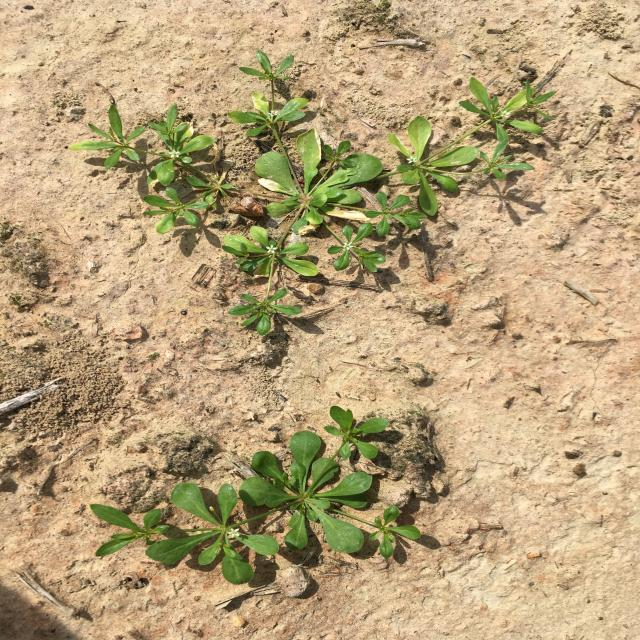Carpetweed: (69, 48, 558, 336), (90, 405, 421, 584)
